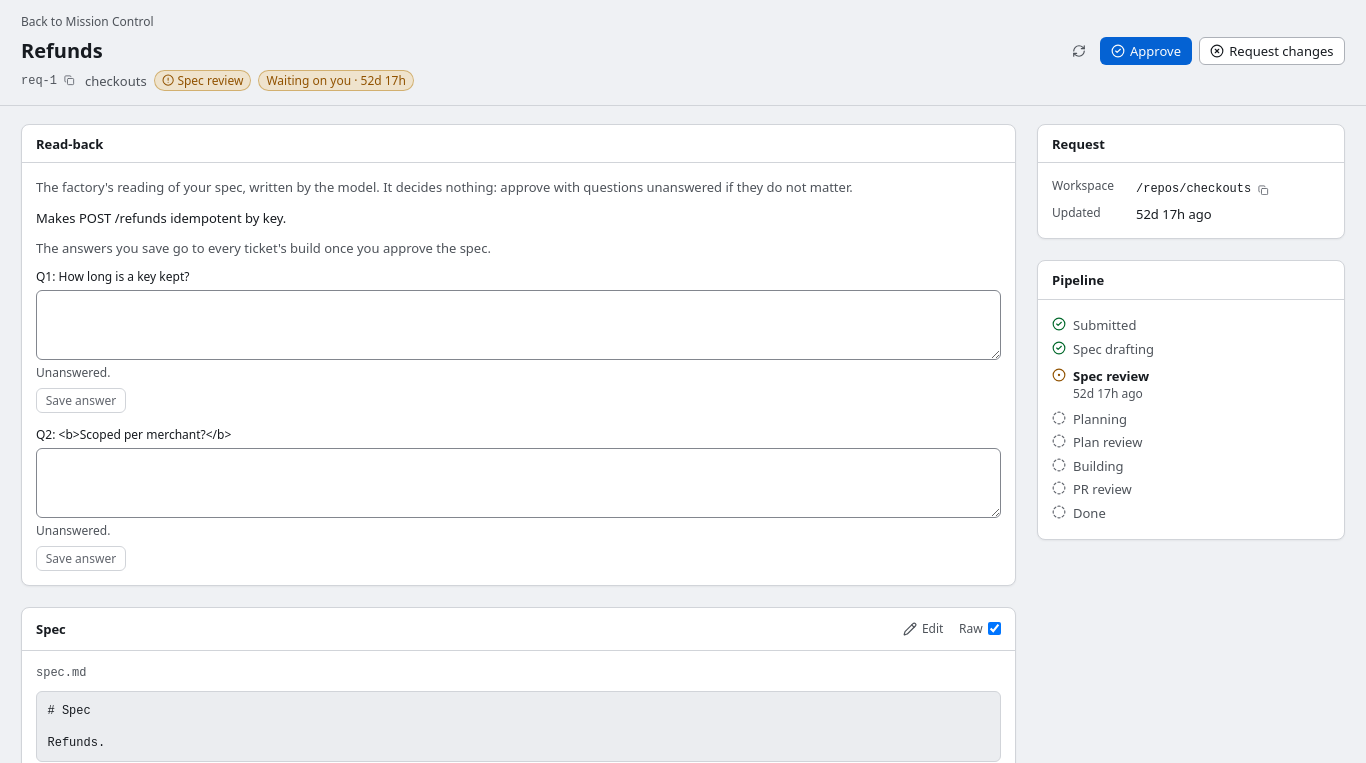
Test case: an answer box keeps unsaved text when its question is replaced underneath it, and says so
Check: the element with test id "read-back-question-Q2" is shown, box [36,427,1001,571]
Type "my unsaved text" into the text box named "Answer to Q2". click: (518, 483)
box: [36,448,1001,518]
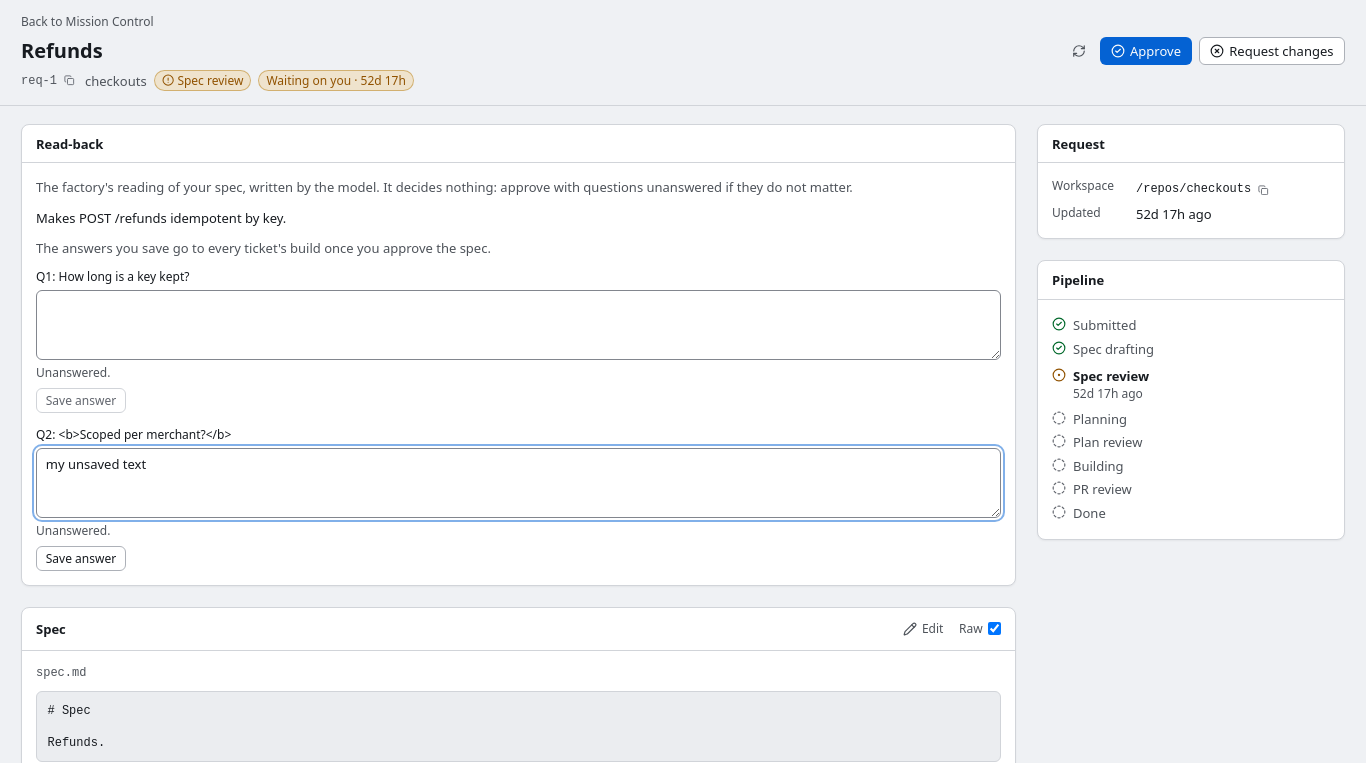
Type "24 hours." into the text box named "Answer to Q1". click: (518, 325)
box: [36,290,1001,360]
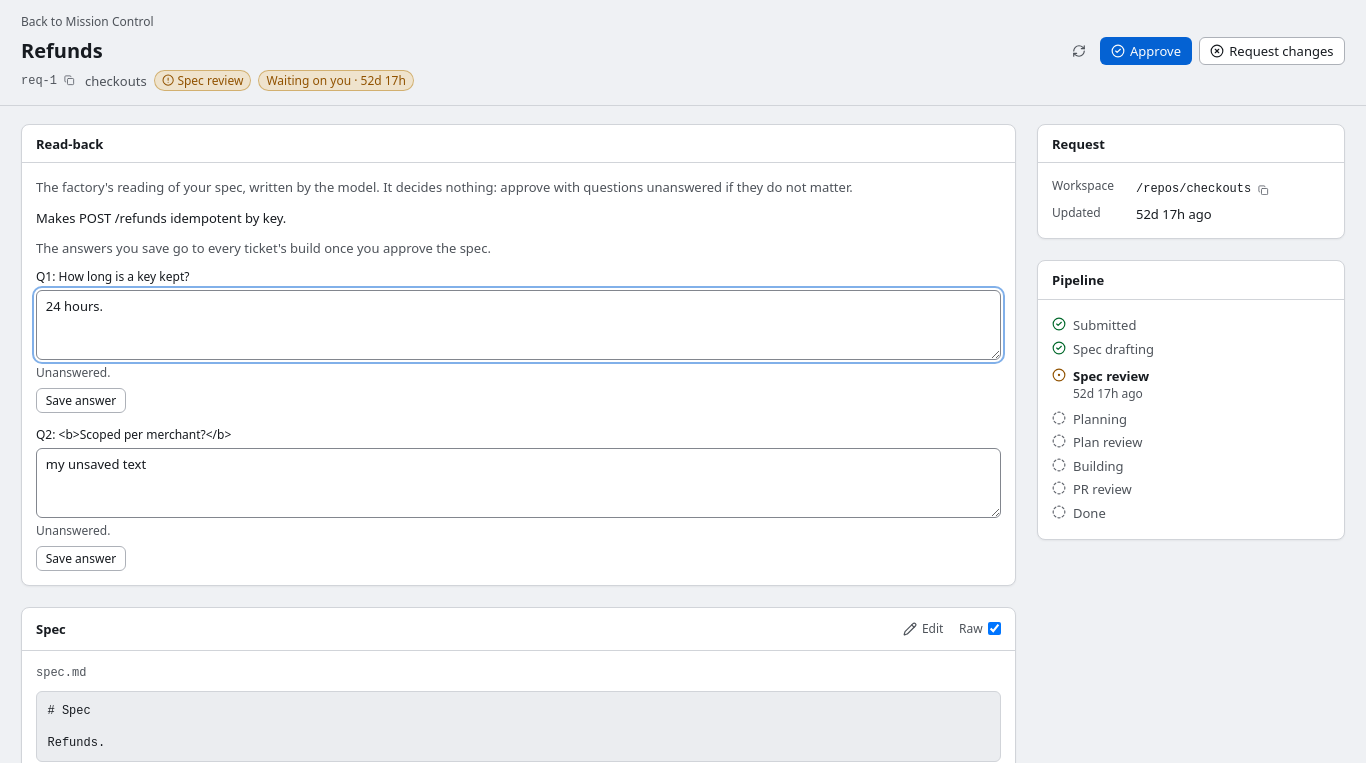
Click the button "Save answer" below "Q1". click: click(81, 401)
box: [36,388,126,413]
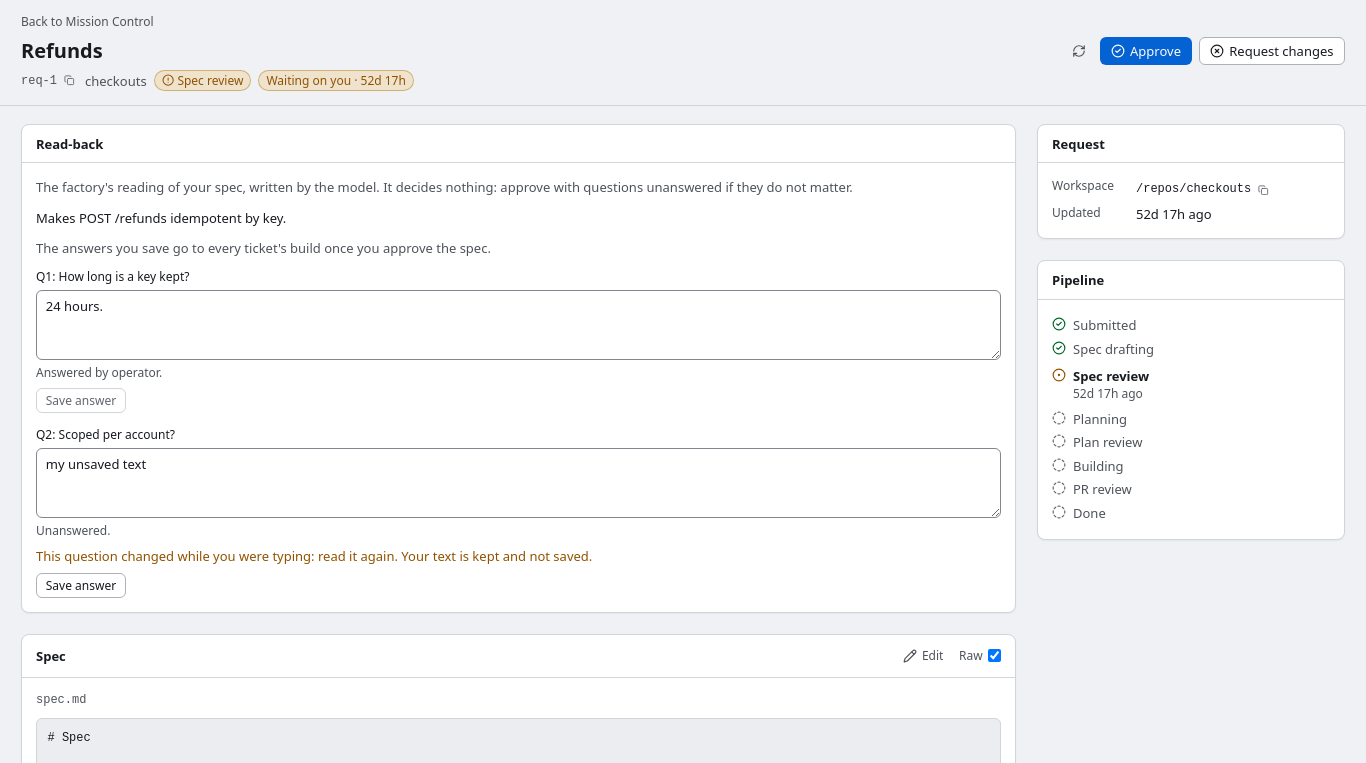
Check: the message shows "This question changed while you were typing: read it again.", box [36,547,592,565]
Check: the text "Q2: Scoped per account?" is shown, box [36,426,175,443]
